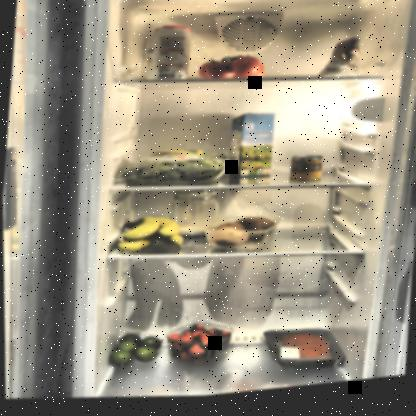banana: (114, 214, 184, 260)
beef: (258, 328, 348, 382)
corn: (289, 159, 323, 190)
lime: (108, 332, 162, 374)
milk: (225, 115, 276, 187)
potato: (205, 213, 283, 262)
spinach: (113, 142, 232, 200)
strawberries: (160, 320, 235, 372)
tomato: (194, 53, 270, 92)
